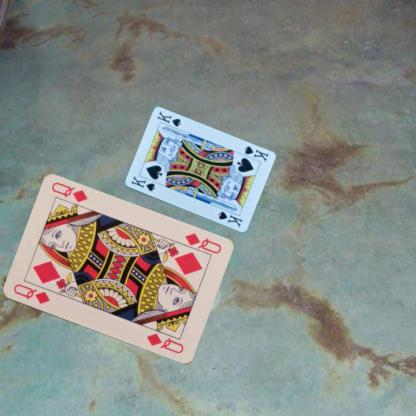Ks: (241, 144, 270, 163), (128, 174, 156, 192)
Qd: (177, 230, 222, 258), (10, 281, 51, 306)
